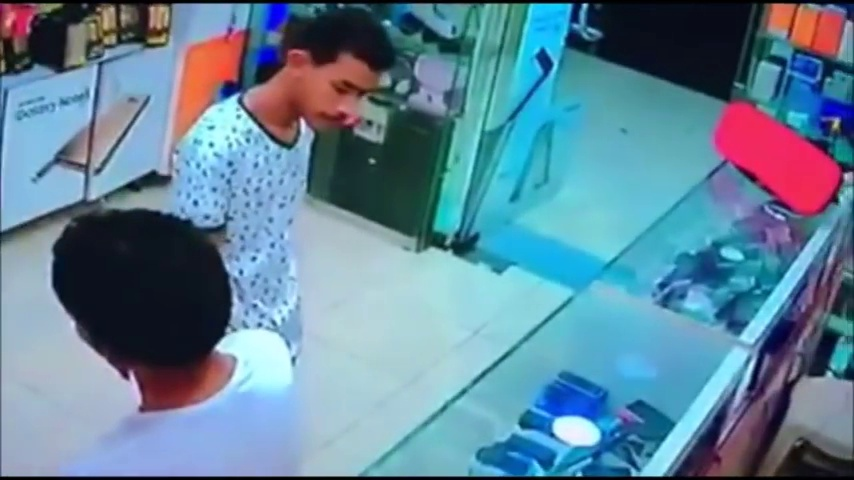face: (301, 43, 366, 138)
